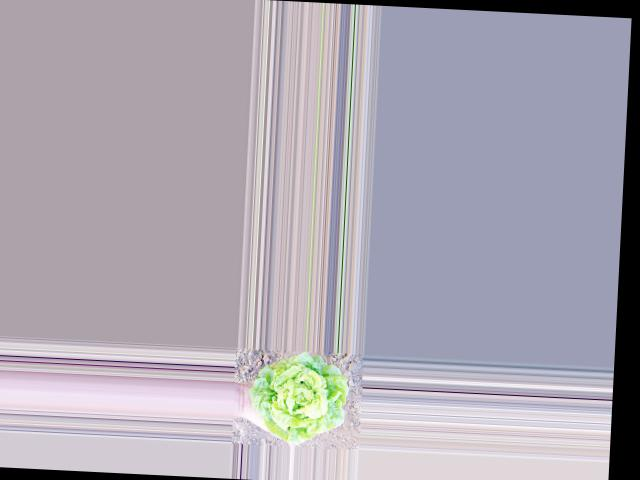lettuce: (253, 352, 351, 444)
